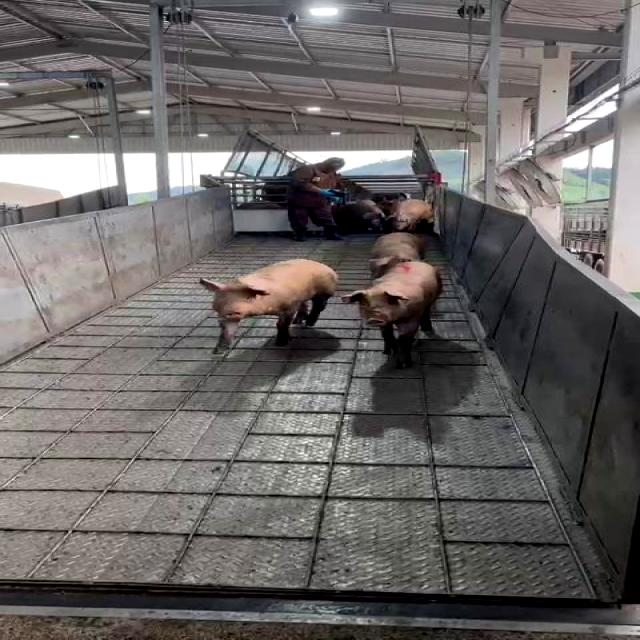pig: (199, 259, 339, 352), (341, 261, 442, 367), (369, 232, 426, 278)
